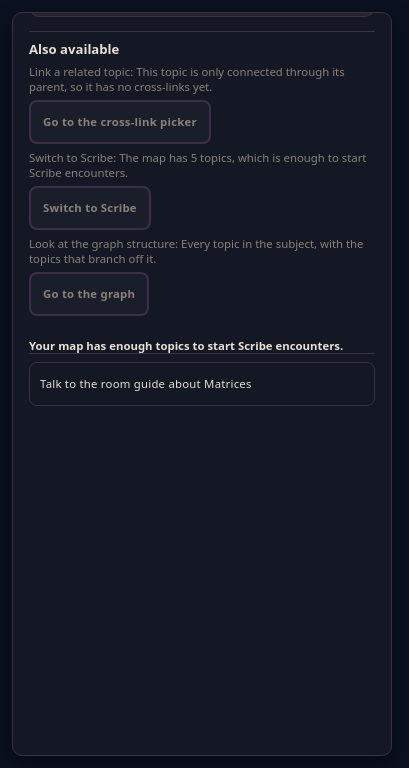
Scenario: the guide-conversation DOM route › is reachable in the Creator phase and opens the same dialog the world renders
(page scrolled)
Click the button "Talk to the room guide about Matrices" at (202, 384), box [29,362,375,406]
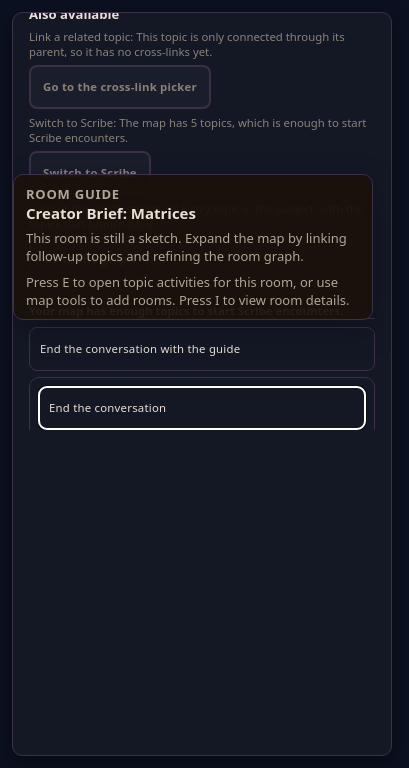
Result: the message "Room Guide" is shown at [13,174,373,320]
